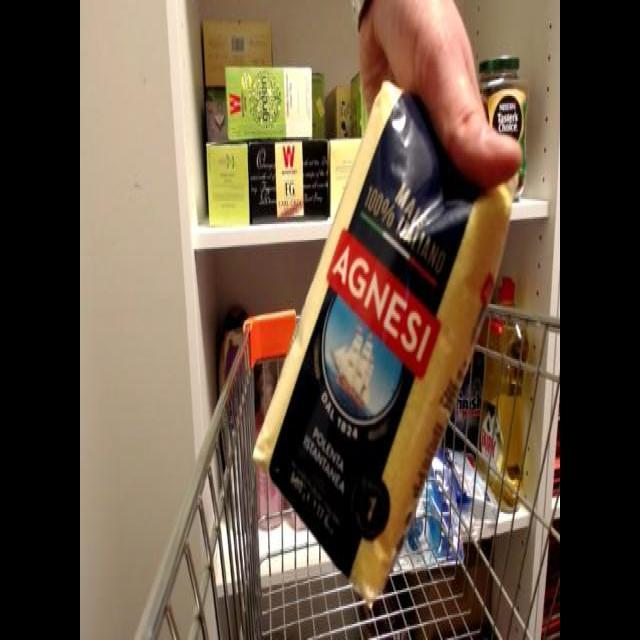Agnesi Polenta: (246, 90, 530, 609)
